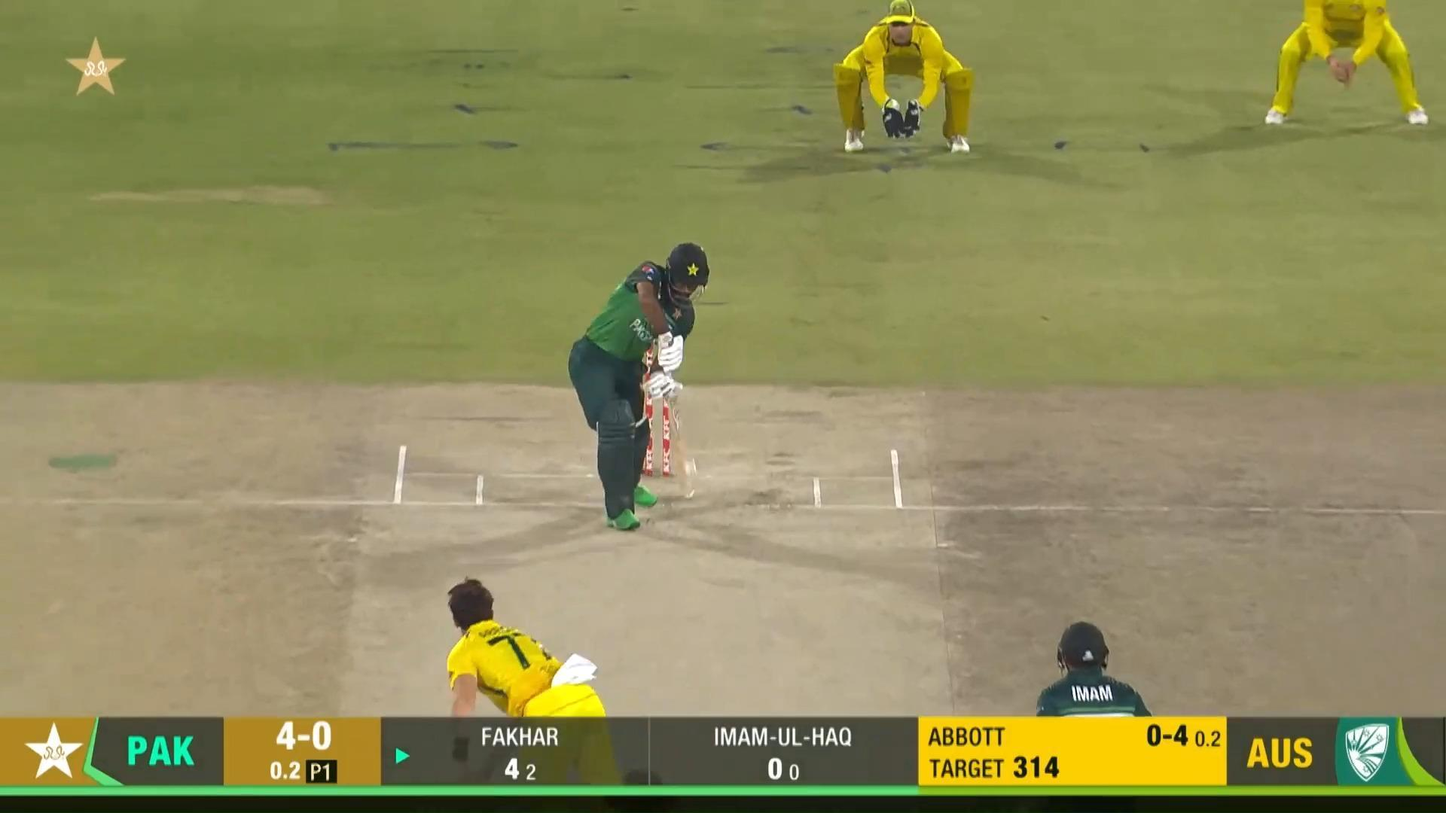BM 1: (567, 241, 710, 531)
BO: (446, 576, 639, 813)
